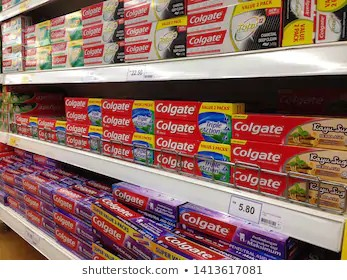colgate-family: (156, 136, 229, 179), (154, 134, 227, 177), (157, 101, 233, 140), (101, 97, 157, 134), (99, 130, 155, 167), (66, 98, 99, 127)
colgate-medium: (232, 112, 344, 146), (232, 138, 344, 172), (230, 167, 342, 201)
